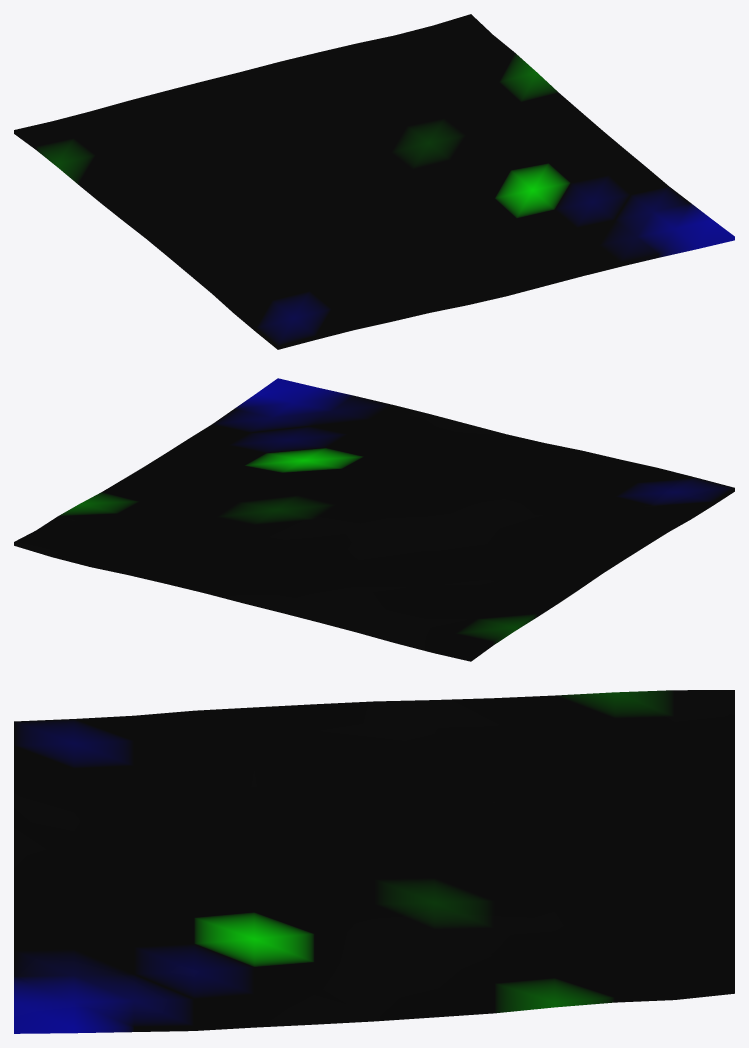
The model's file is coast_16_6.glb.
3 renders of one model, top to bottom at view 1: azimuth 30°, elevation 25°; view 2: azimuth 150°, elevation 25°; view 3: azimuth 270°, elevation 25°, orthographic. The views are drawn at different scales.
Parts seen in each view (by area): view 1: terrain; view 2: terrain; view 3: terrain.
Part boxes in pixels (x1,y1,x2,y2): terrain: (14, 14, 734, 349); terrain: (14, 378, 734, 661); terrain: (14, 690, 734, 1033).
Size of the model in its own units: 192 by 13.41 by 192.
